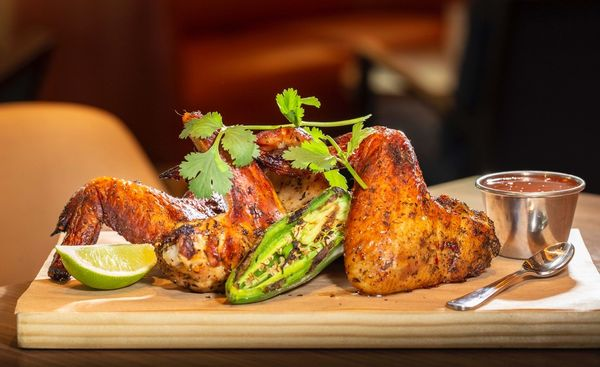burger: (446, 241, 576, 310)
pizza: (476, 170, 586, 266)
salad: (447, 241, 576, 311)
